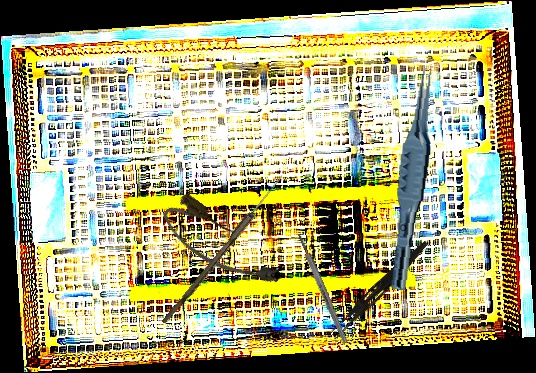Cannula: (155, 189, 288, 303)
Dressing Forceps: (328, 236, 430, 343)
Scalpel Handle: (296, 233, 349, 345)
Surgical Spoon: (161, 172, 286, 327)
Tissue Forceps: (388, 63, 440, 292)
